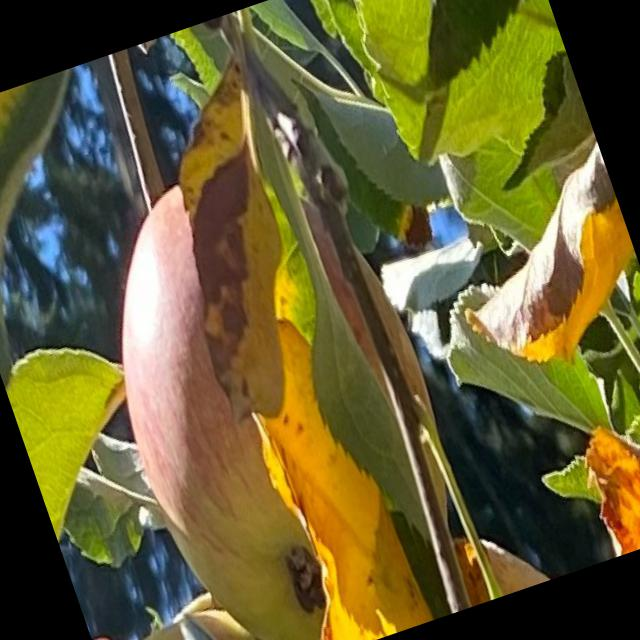Apples: (60, 129, 502, 639)
